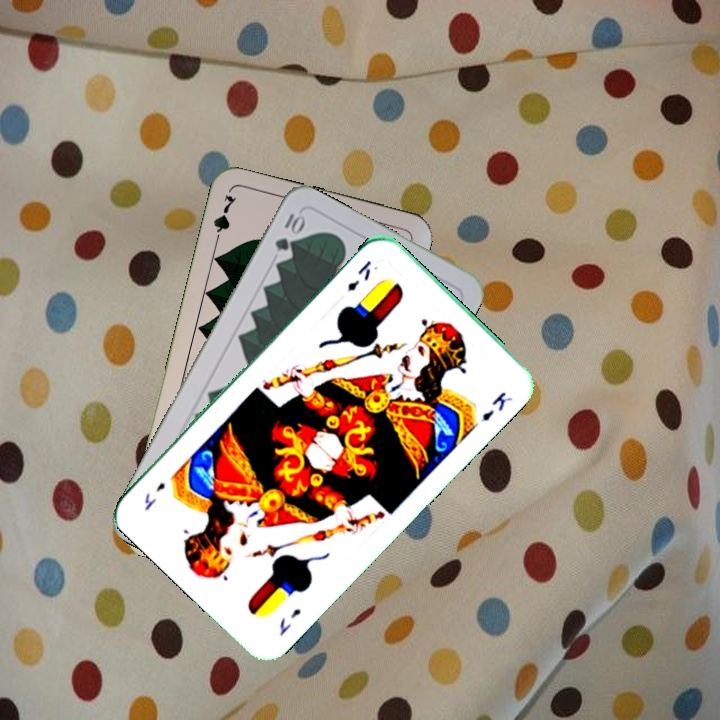EK: (343, 256, 374, 294), (275, 604, 304, 638)
G10: (270, 208, 307, 254)
G7: (209, 190, 239, 249)
